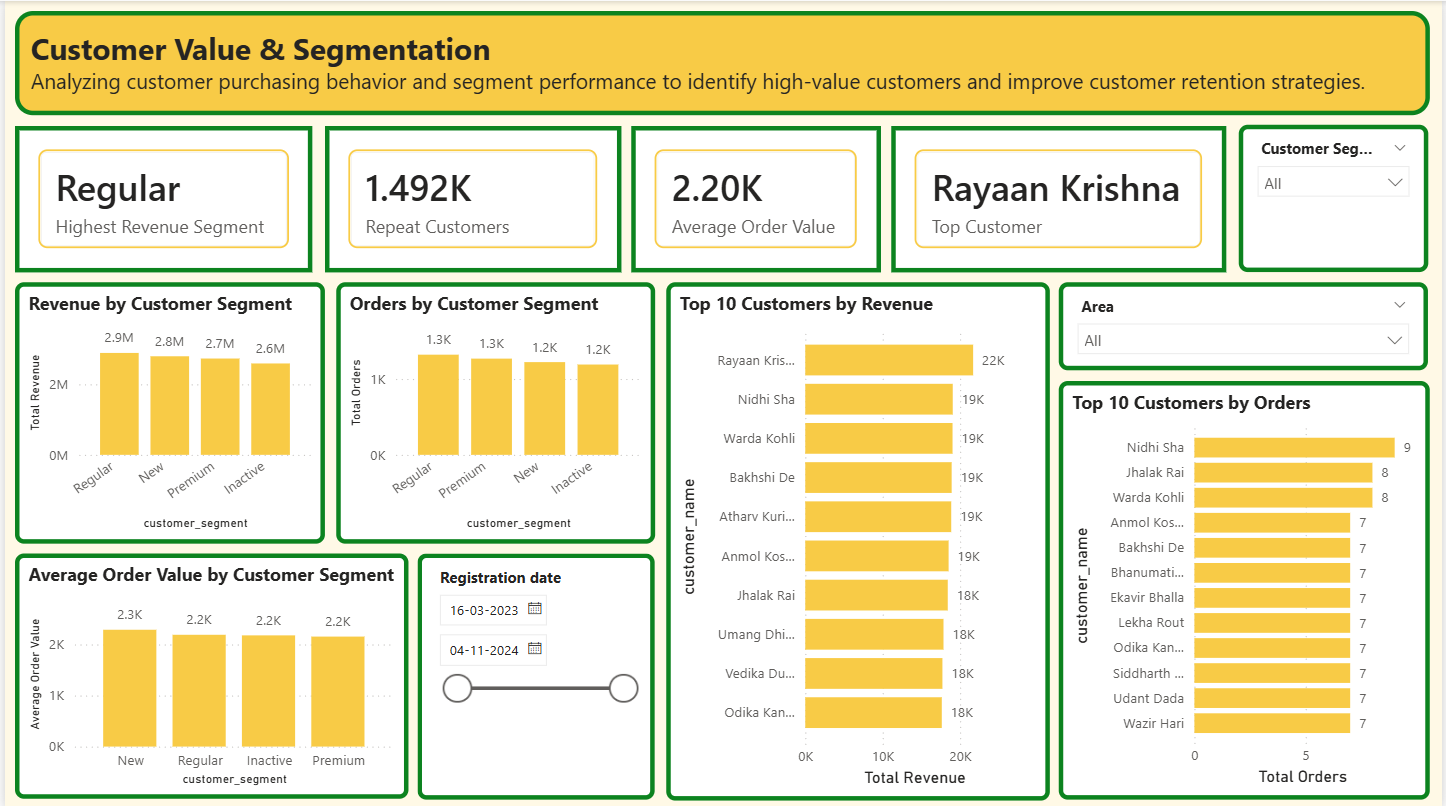

This screenshot's page, from the dashboard's own definition file:
{"tool":"powerbi","page":{"name":"Customer Value & Segmentation","canvas":[1280,720],"ordinal":3},"visuals":[{"type":"cardVisual","fields":{"Data":["blinkit_customer_feedback.Highest Revenue Segment"]},"box":[8.8,111.2,265,130],"z":0},{"type":"textbox","box":[8.8,8.8,1260,92.5],"z":1000},{"type":"cardVisual","fields":{"Data":["blinkit_customer_feedback.Repeat Customers"]},"box":[285,111.2,263.8,130],"z":2000},{"type":"cardVisual","fields":{"Data":["blinkit_customer_feedback.Top Customer"]},"box":[788.8,111.2,298.8,130],"z":3000},{"type":"cardVisual","fields":{"Data":["blinkit_customer_feedback.Average Order Value"]},"box":[557.5,111.2,222.5,130],"z":4000},{"type":"clusteredColumnChart","title":"Revenue by Customer Segment","fields":{"Category":["blinkit_customers.customer_segment"],"Y":["blinkit_customer_feedback.Total Revenue"]},"box":[8.8,250,276.2,232.5],"z":5000},{"type":"clusteredColumnChart","title":"Orders by Customer Segment","fields":{"Category":["blinkit_customers.customer_segment"],"Y":["blinkit_customer_feedback.Total Orders"]},"box":[295,250,283.8,232.5],"z":6000},{"type":"clusteredColumnChart","title":"Average Order Value by Customer Segment","fields":{"Category":["blinkit_customers.customer_segment"],"Y":["blinkit_customer_feedback.Average Order Value"]},"box":[8.8,492.5,350,218.8],"z":7000},{"type":"clusteredBarChart","title":"Top 10 Customers by Revenue","fields":{"Category":["blinkit_customers.customer_name"],"Y":["blinkit_customer_feedback.Total Revenue"]},"box":[588.8,250,341.2,461.2],"z":8000},{"type":"clusteredBarChart","title":"Top 10 Customers by Orders","fields":{"Category":["blinkit_customers.customer_name"],"Y":["blinkit_customer_feedback.Total Orders"]},"box":[938.8,338.8,330,372.5],"z":9000},{"type":"slicer","fields":{"Values":["blinkit_customers.customer_segment"]},"box":[1098.8,110,168.8,131.2],"z":10000},{"type":"slicer","fields":{"Values":["blinkit_customers.area"]},"box":[938.8,250,328.8,78.8],"z":11000},{"type":"slicer","fields":{"Values":["blinkit_customers.registration_date"]},"box":[367.3,492,211.5,219.3],"z":12000}]}

Visuals, with their boxes in screenshot pixels (x1, y1, x2, y2), scaled from the page's 1280x720 canvas onto the 1446x806 screenshot:
cardVisual - blinkit_customer_feedback.Highest Revenue Segment: 10,124,309,270
textbox: 10,10,1433,113
cardVisual - blinkit_customer_feedback.Repeat Customers: 322,124,620,270
cardVisual - blinkit_customer_feedback.Top Customer: 891,124,1229,270
cardVisual - blinkit_customer_feedback.Average Order Value: 630,124,881,270
"Revenue by Customer Segment" clusteredColumnChart: 10,280,322,540
"Orders by Customer Segment" clusteredColumnChart: 333,280,654,540
"Average Order Value by Customer Segment" clusteredColumnChart: 10,551,405,796
"Top 10 Customers by Revenue" clusteredBarChart: 665,280,1051,796
"Top 10 Customers by Orders" clusteredBarChart: 1061,379,1433,796
slicer - blinkit_customers.customer_segment: 1241,123,1432,270
slicer - blinkit_customers.area: 1061,280,1432,368
slicer - blinkit_customers.registration_date: 415,551,654,796
